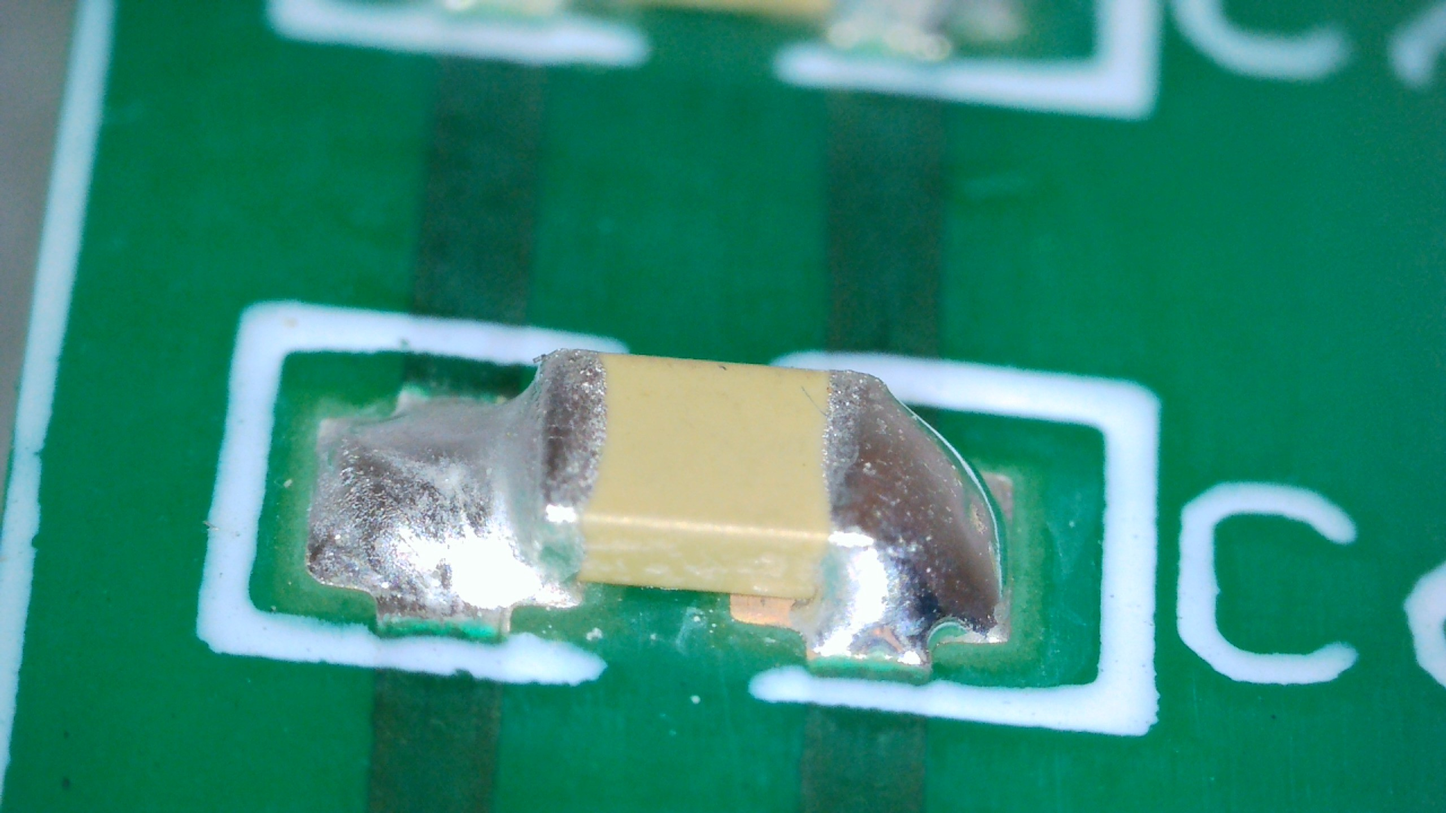NG: (791, 370, 999, 667)
OK: (305, 351, 604, 605)
